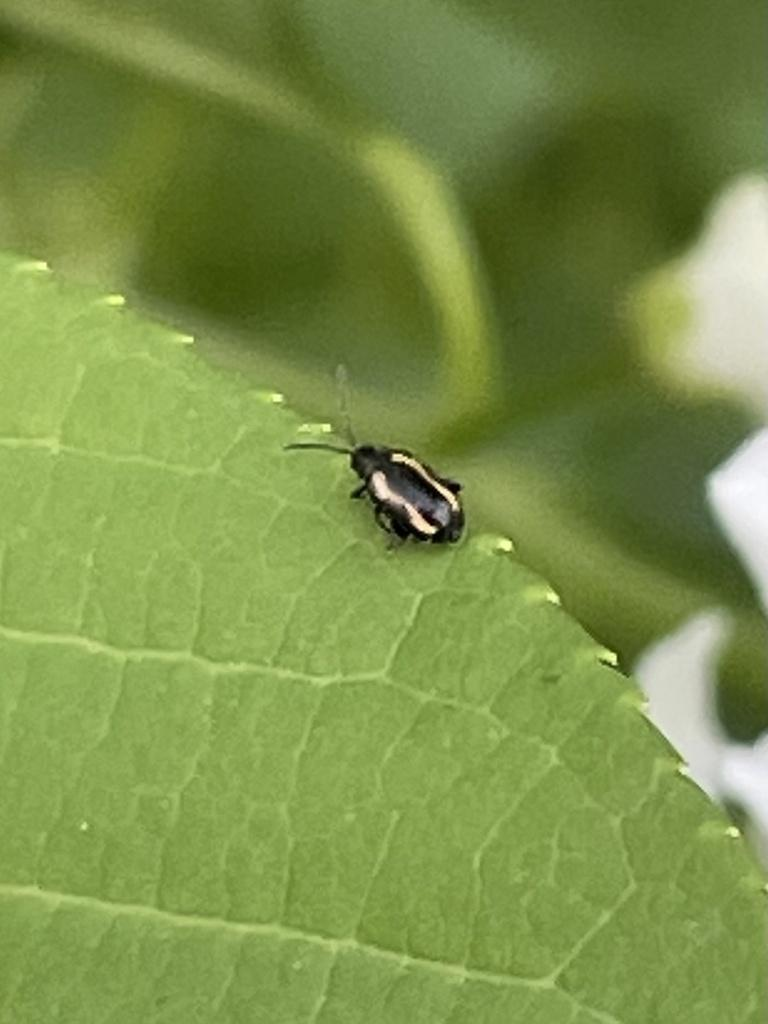flea_beetle: (250, 365, 510, 584)
